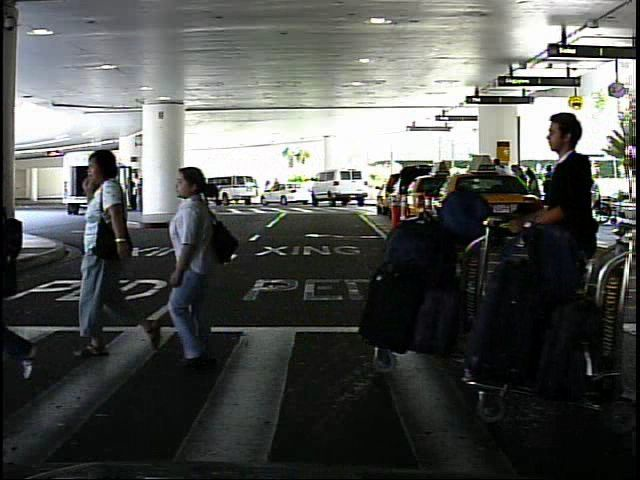person: (514, 98, 607, 394), (83, 137, 160, 358), (154, 158, 228, 382), (103, 172, 121, 222), (585, 171, 604, 217), (261, 178, 272, 204)
